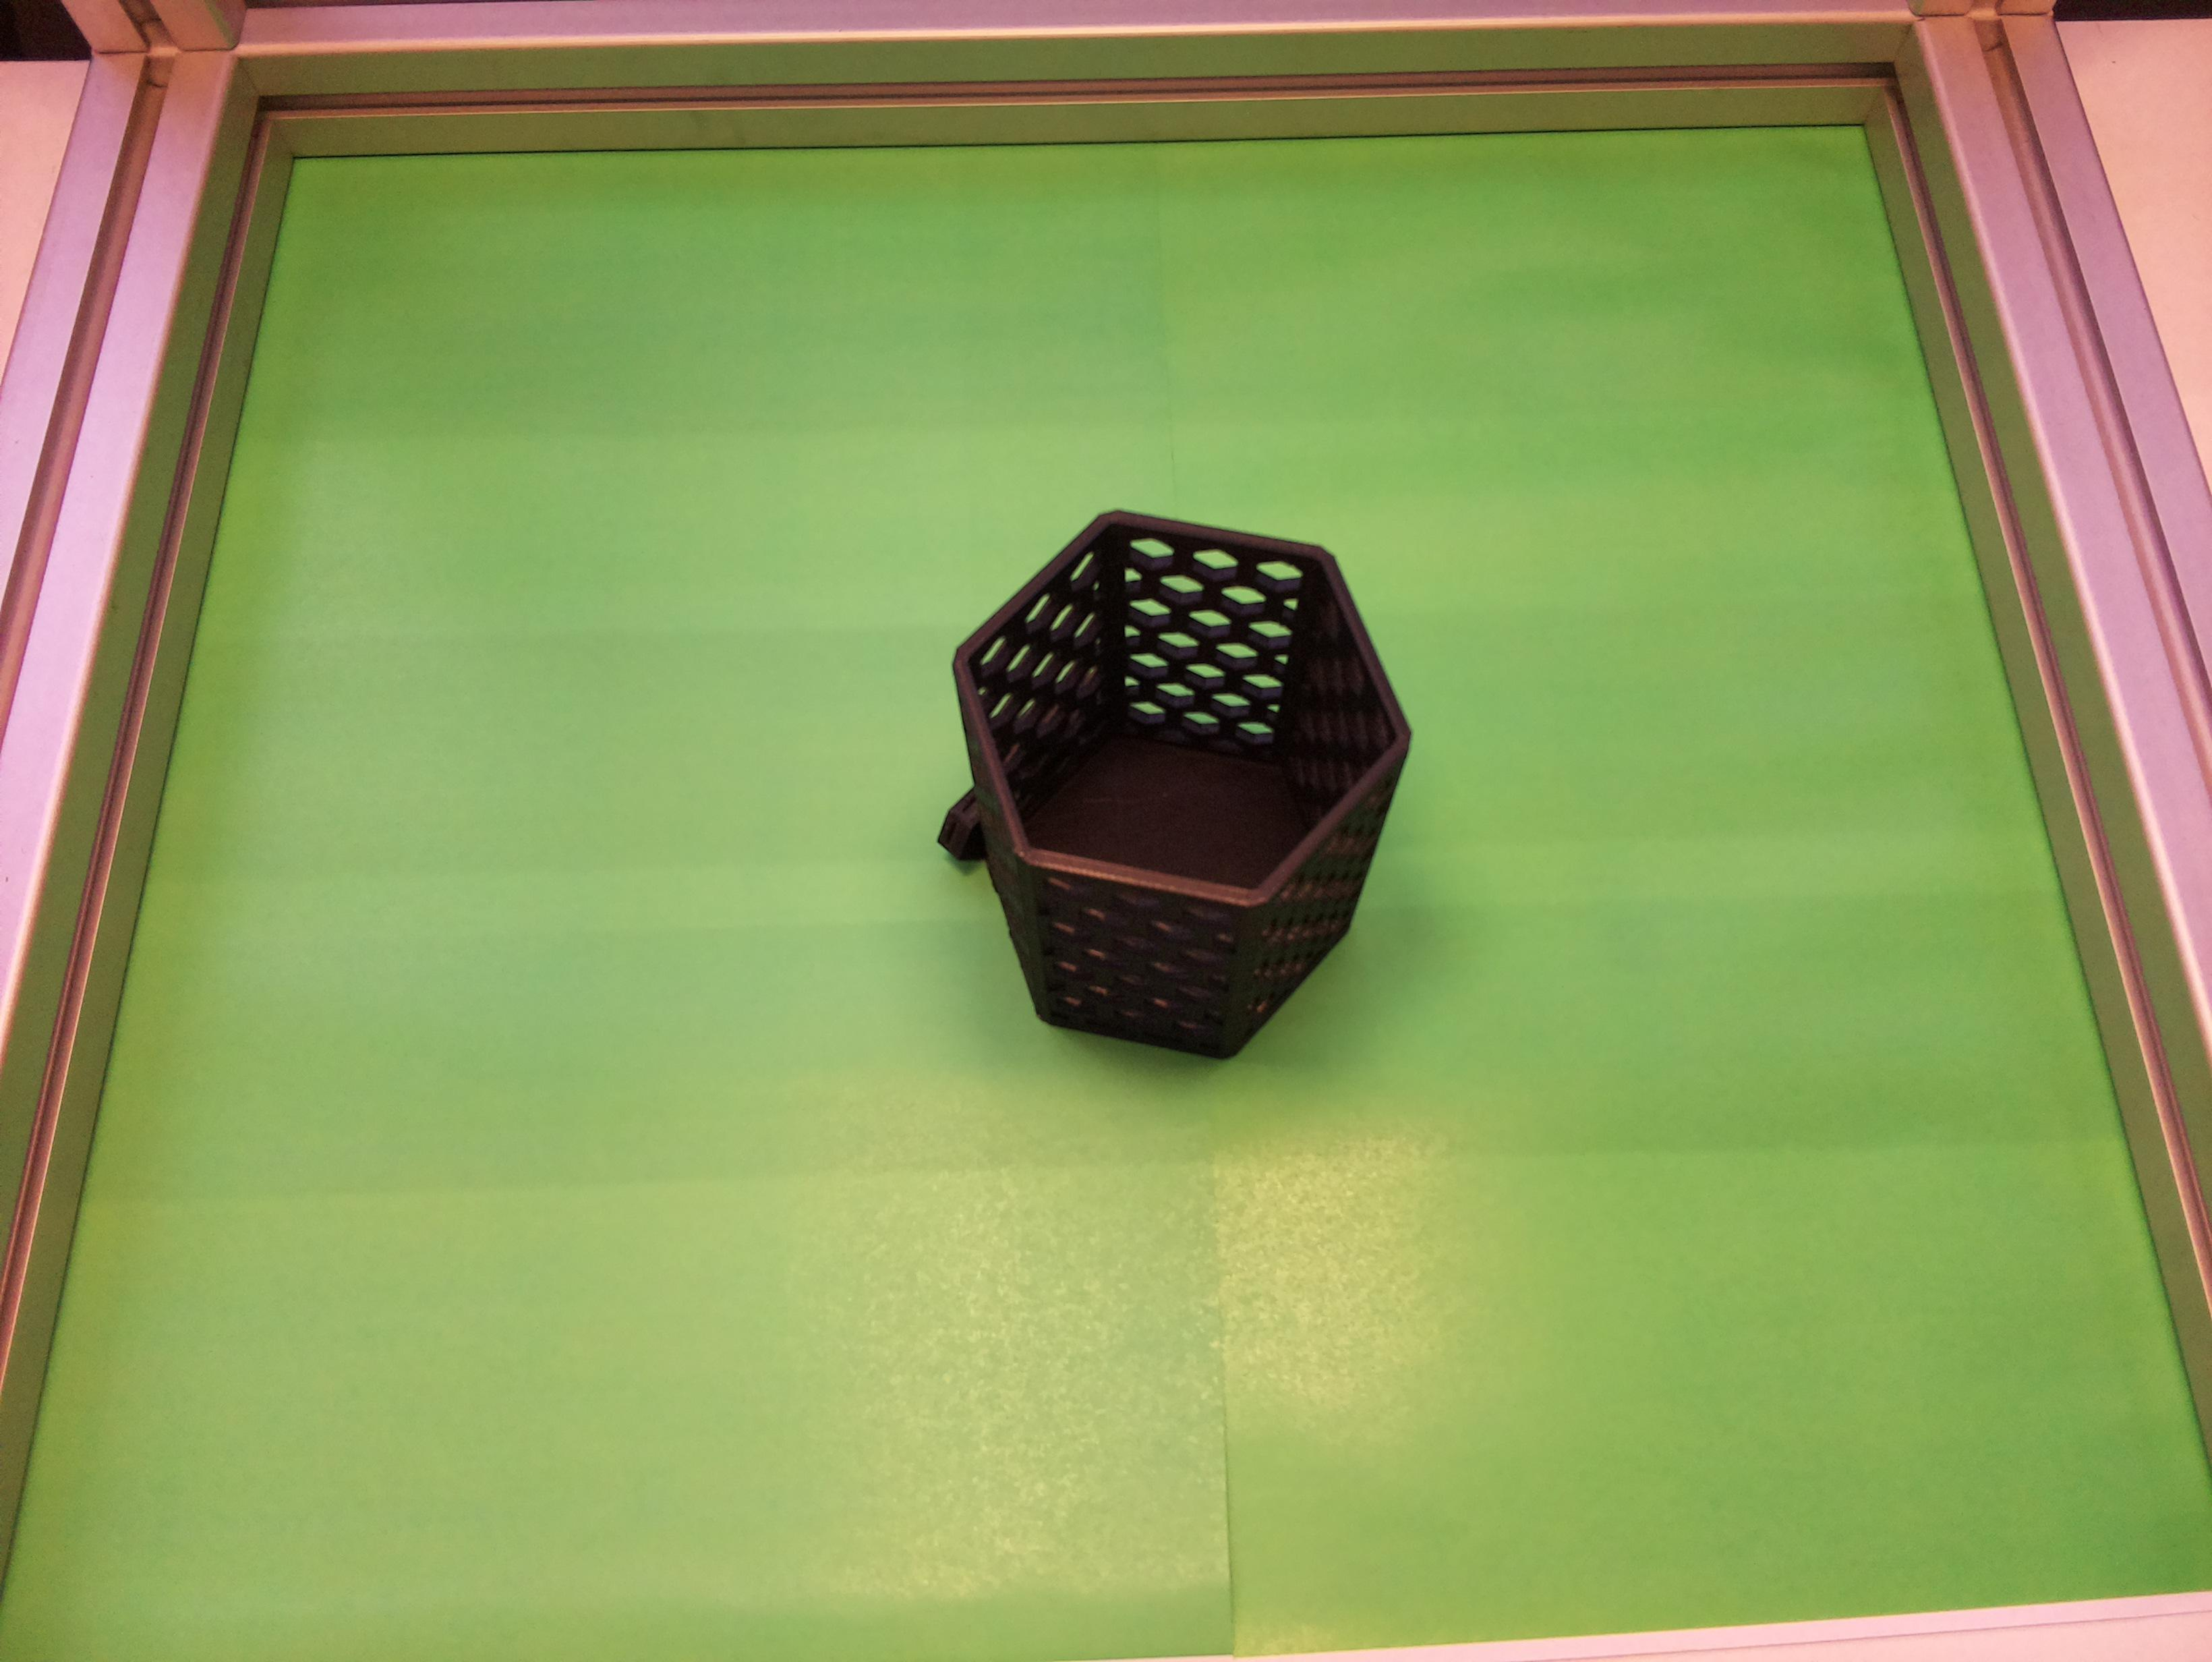cup_holder: (894, 487, 1440, 1081)
